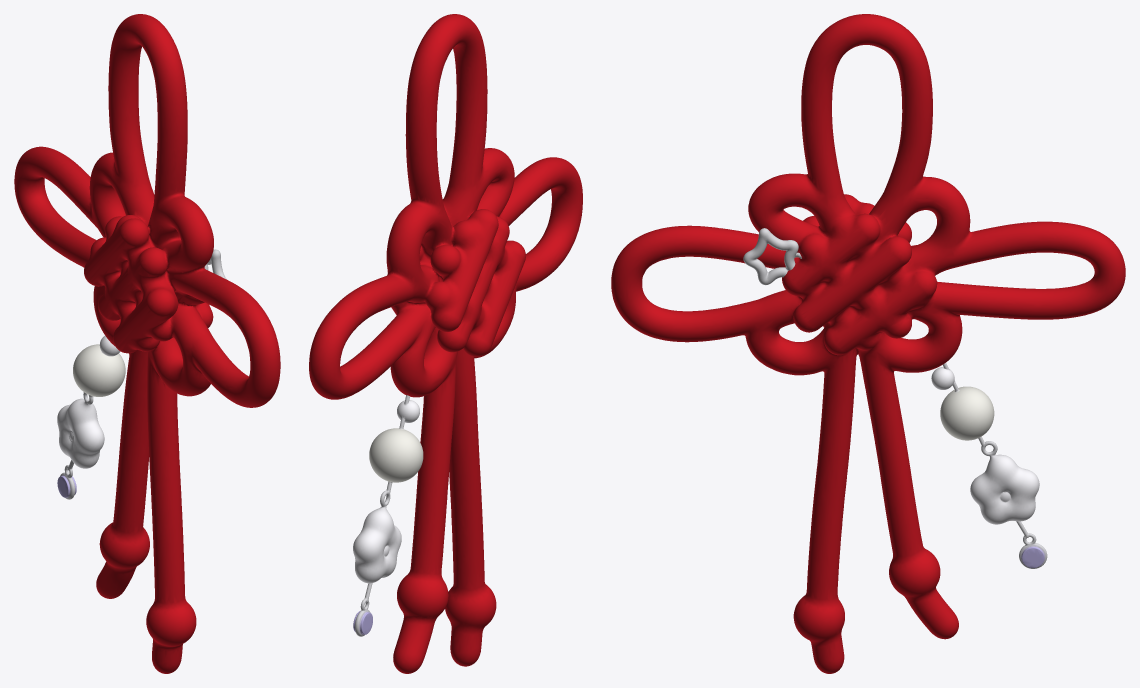
The picture shows the model from 3 angles, left to right: view 1: azimuth 30°, elevation 25°; view 2: azimuth 150°, elevation 25°; view 3: azimuth 270°, elevation 25°; orthographic projection. The views are drawn at different scales.
Parts seen in each view (by area): view 1: 26_10_04_04_19_50_987_0, 26_10_04_04_19_50_987_1; view 2: 26_10_04_04_19_50_987_0, 26_10_04_04_19_50_987_1; view 3: 26_10_04_04_19_50_987_0, 26_10_04_04_19_50_987_1.
Part boxes in pixels (x1,y1,x2,y2): 26_10_04_04_19_50_987_0: (14,14,280,673); 26_10_04_04_19_50_987_1: (57,249,226,499); 26_10_04_04_19_50_987_0: (309,14,582,673); 26_10_04_04_19_50_987_1: (353,395,423,636); 26_10_04_04_19_50_987_0: (611,14,1125,673); 26_10_04_04_19_50_987_1: (743,228,1047,568).
Size of the model in its own units: 16.67 by 141 by 99.9.
Materials: 2 (2 with a texture image).
